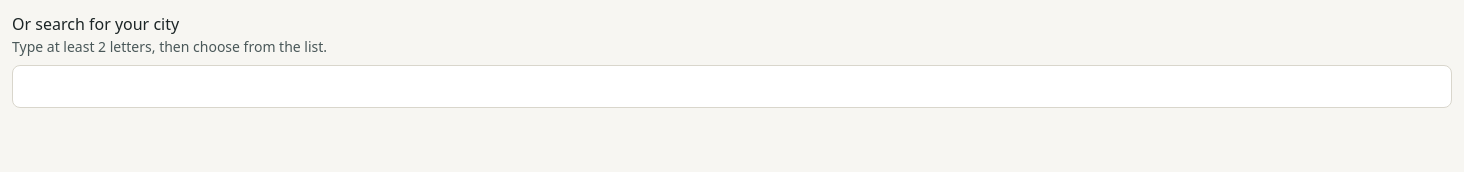
Scenario: CityCombobox › says so when nothing matches
Type "Zzz" into the dropdown.
click(732, 86); type("Zzz")  # box [12,65,1452,108]
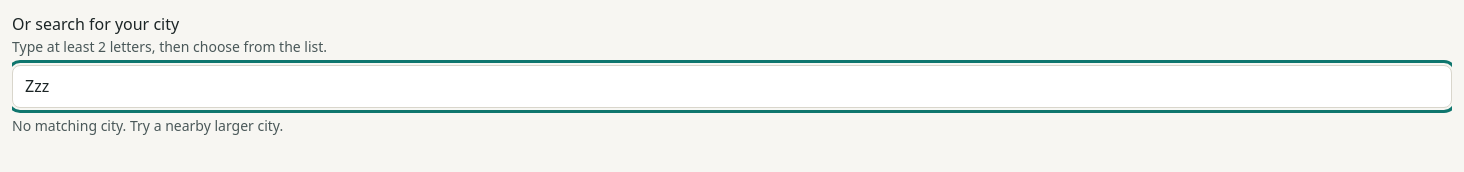
Check: the text "No matching city. Try a nearby larger city." is shown, box [12,116,283,135]
